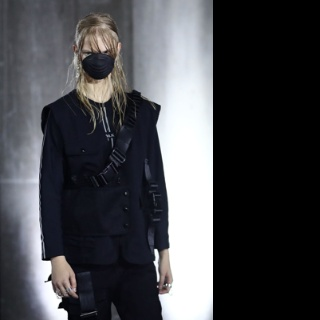with_mask: (80, 45, 118, 80)
